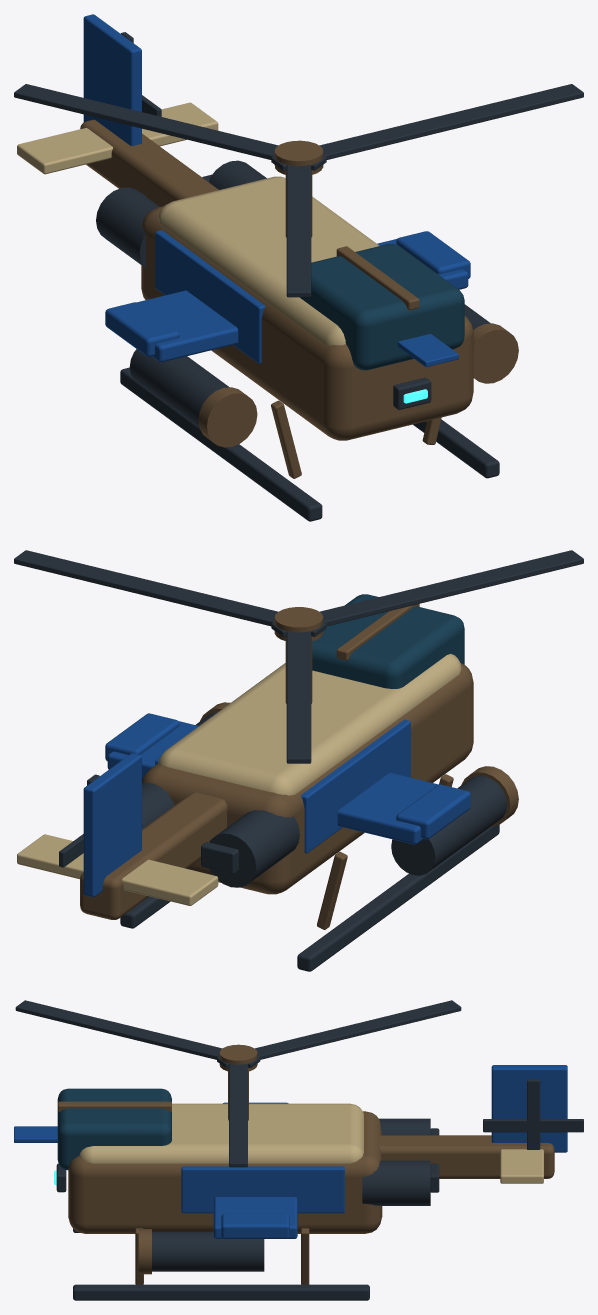
The model's file is gunship-0.glb.
3 views of the same model, one above another, from view 1: azimuth 30°, elevation 25°; view 2: azimuth 150°, elevation 25°; view 3: azimuth 270°, elevation 25° (orthographic). The views are drawn at different scales.
Parts seen in each view (by area): view 1: Airframe_0, CeramicFuselage_1, Cockpit_2, SideEnamel_7, TailFin_24, TailBoom_23, RotorBlade_34, RotorBlade_36, TailPlane_25, Wing_8, Skid_26, WeaponPod_10 (+13 smaller); view 2: CeramicFuselage_1, Airframe_0, Cockpit_2, TailBoom_23, TailFin_24, SideEnamel_7, TailPlane_25, RotorBlade_35, RotorBlade_34, WeaponPod_10, Skid_26, Exhaust_12 (+12 smaller); view 3: Airframe_0, CeramicFuselage_1, SideEnamel_15, Cockpit_2, Skid_29, TailBoom_23, TailFin_24, WeaponPod_18, Exhaust_20, RotorBlade_35, RotorBlade_36, RotorBlade_34 (+11 smaller).
Boxes of the visible parts, <box> form: Airframe_0: <box>141,206,473,440</box>; CeramicFuselage_1: <box>158,176,379,345</box>; Cockpit_2: <box>300,244,464,370</box>; SideEnamel_7: <box>155,230,265,363</box>; TailFin_24: <box>83,14,141,145</box>; TailBoom_23: <box>80,119,218,206</box>; RotorBlade_34: <box>271,84,583,170</box>; RotorBlade_36: <box>14,84,326,170</box>; TailPlane_25: <box>17,102,218,174</box>; Wing_8: <box>137,290,238,362</box>; Skid_26: <box>120,367,322,521</box>; WeaponPod_10: <box>129,349,229,427</box>; CeramicFuselage_1: <box>158,654,461,795</box>; Airframe_0: <box>142,663,473,894</box>; Cockpit_2: <box>312,594,464,688</box>; TailBoom_23: <box>80,792,227,919</box>; TailFin_24: <box>83,753,141,897</box>; SideEnamel_7: <box>301,719,410,853</box>; TailPlane_25: <box>17,834,218,905</box>; RotorBlade_35: <box>271,550,583,636</box>; RotorBlade_34: <box>14,550,326,636</box>; WeaponPod_10: <box>391,775,507,875</box>; Skid_26: <box>297,824,499,971</box>; Exhaust_12: <box>209,810,299,887</box>; Airframe_0: <box>68,1111,382,1233</box>; CeramicFuselage_1: <box>79,1103,363,1163</box>; SideEnamel_15: <box>181,1166,344,1213</box>; Cockpit_2: <box>57,1088,171,1170</box>; Skid_29: <box>73,1284,369,1300</box>; TailBoom_23: <box>379,1135,554,1178</box>; TailFin_24: <box>491,1065,567,1152</box>; WeaponPod_18: <box>152,1232,264,1271</box>; Exhaust_20: <box>362,1160,430,1205</box>; RotorBlade_35: <box>15,1000,260,1067</box>; RotorBlade_36: <box>217,1000,461,1067</box>; RotorBlade_34: <box>229,1063,247,1167</box>.
Bounding box in the file's own units: 2.09 × 1.23 × 2.99.
